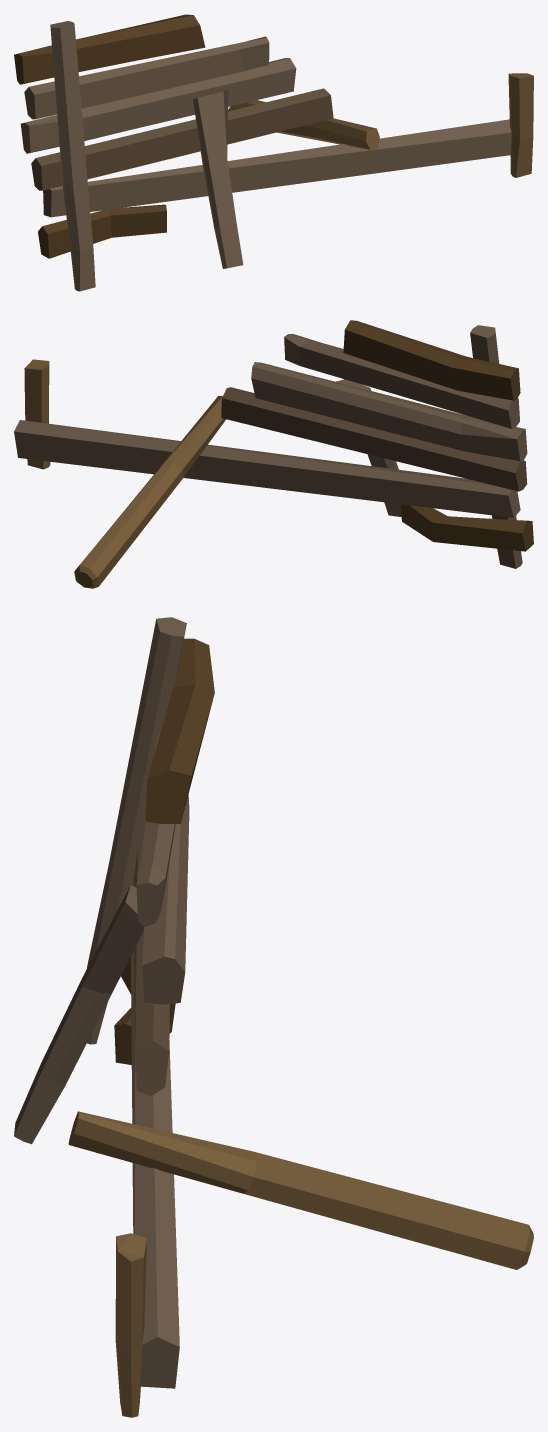
Rendered from EA03_Fence_SolidBeam_End_01a.glb.
3 renders of one model, top to bottom at view 1: azimuth 30°, elevation 25°; view 2: azimuth 150°, elevation 25°; view 3: azimuth 270°, elevation 25°, orthographic. The views are drawn at different scales.
Visible parts, largest first — view 1: EA03_Fence_SolidBeam_End_01a; view 2: EA03_Fence_SolidBeam_End_01a; view 3: EA03_Fence_SolidBeam_End_01a.
Boxes of the visible parts, x1,y1,x2,y2 form: EA03_Fence_SolidBeam_End_01a: (14, 14, 533, 291); EA03_Fence_SolidBeam_End_01a: (14, 320, 533, 588); EA03_Fence_SolidBeam_End_01a: (14, 617, 533, 1417).
Size of the model in its own units: 6.22 by 3.01 by 3.37.
Materials: 1 (1 with a texture image).
